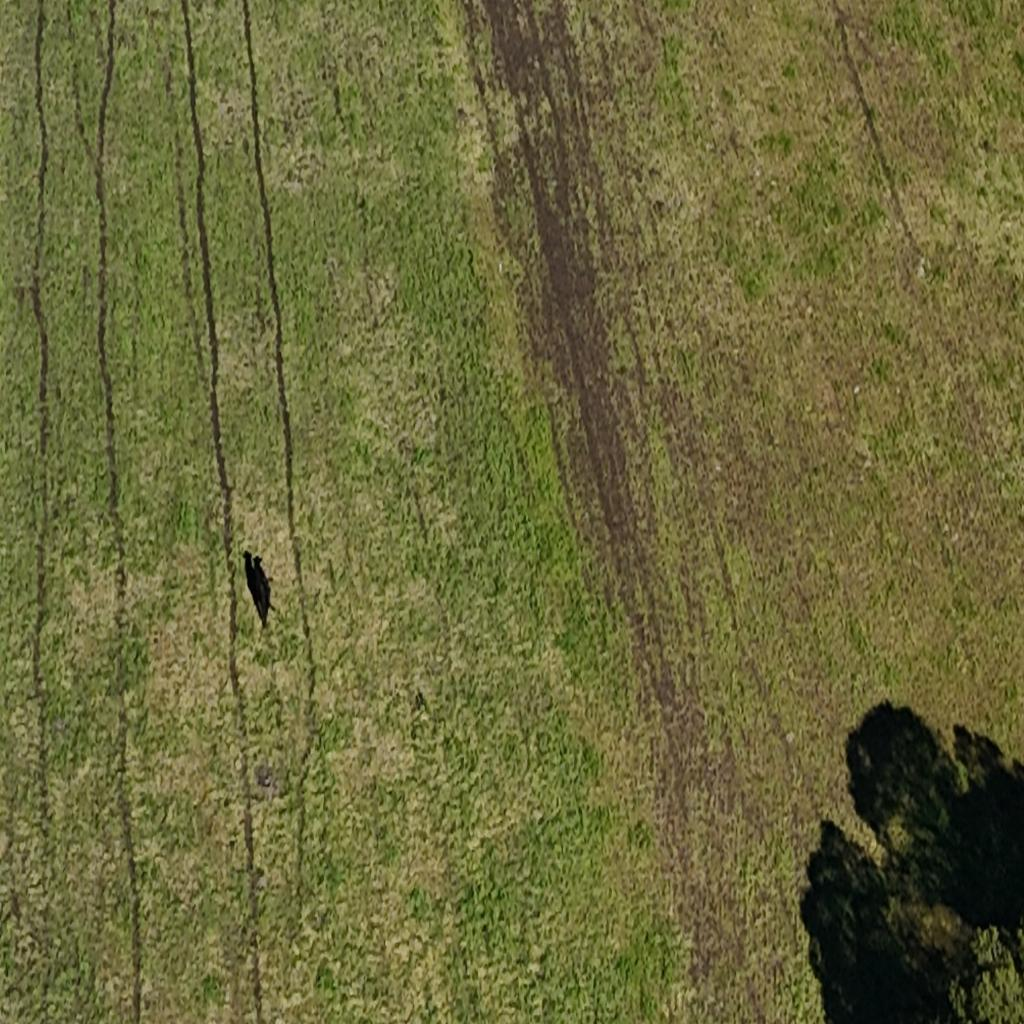cow: (251, 553, 272, 623)
